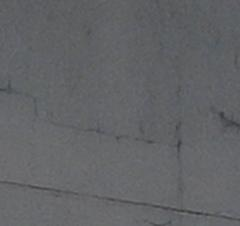fissura: (2, 70, 237, 169)
